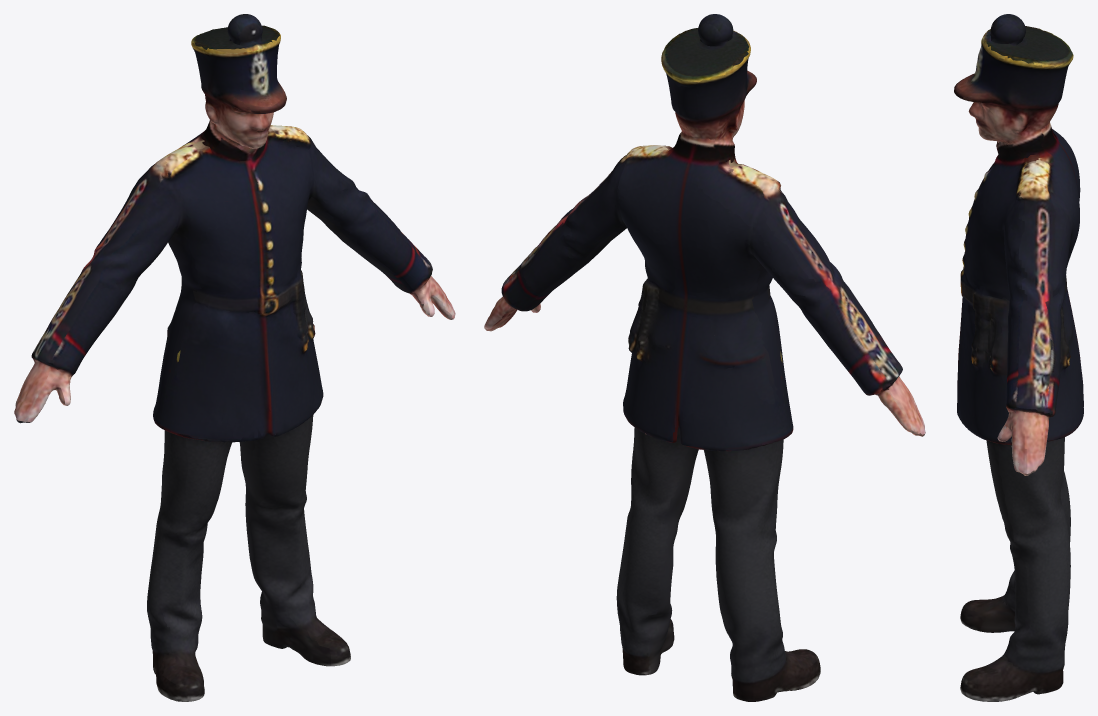
File: NO_Officer_1864_v2.glb
The picture shows the model from 3 angles, left to right: view 1: azimuth 30°, elevation 25°; view 2: azimuth 150°, elevation 25°; view 3: azimuth 270°, elevation 25°; orthographic projection.
Parts seen in each view (by area): view 1: tmp6k8elnry.ply; view 2: tmp6k8elnry.ply; view 3: tmp6k8elnry.ply.
Part boxes in pixels (bbox=[...]): tmp6k8elnry.ply: bbox=[14, 14, 455, 701]; tmp6k8elnry.ply: bbox=[484, 14, 925, 701]; tmp6k8elnry.ply: bbox=[954, 14, 1083, 701].
Size of the model in its own units: 1.4 by 1.99 by 0.3641.
Materials: 1 (1 with a texture image).
